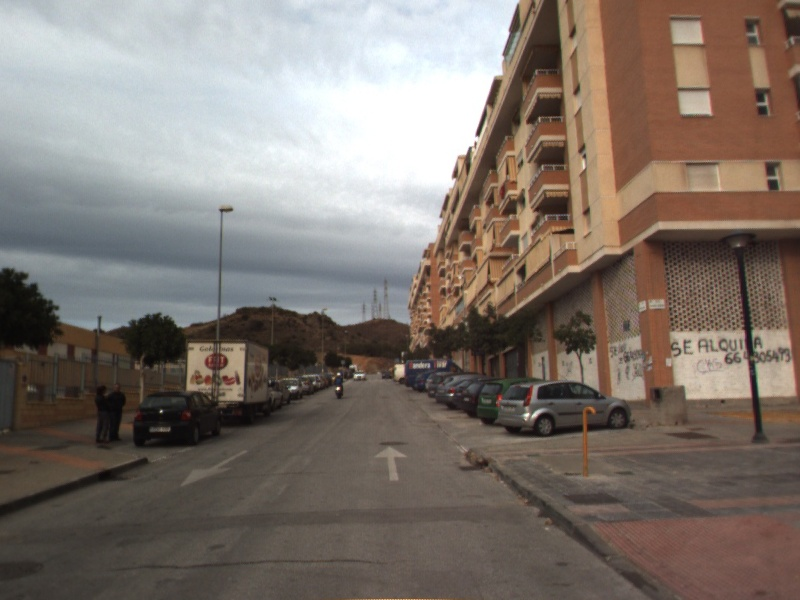STRAIGHT: (372, 444, 410, 483)
